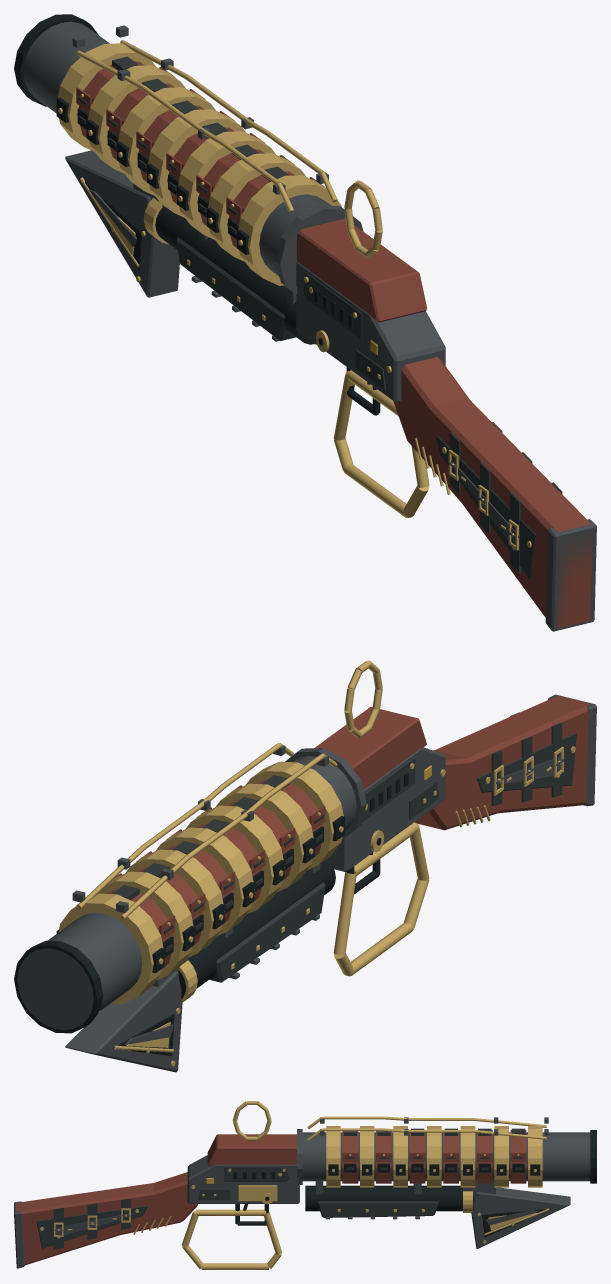
Rendered from slug_4.glb.
3 views of the same model, one above another, from view 1: azimuth 30°, elevation 25°; view 2: azimuth 150°, elevation 25°; view 3: azimuth 270°, elevation 25° (orthographic). The views are drawn at different scales.
Parts seen in each view (by area): view 1: Weapon_slug_v1; view 2: Weapon_slug_v1; view 3: Weapon_slug_v1.
Part boxes in pixels (x1,y1,x2,y2): Weapon_slug_v1: (14, 14, 596, 631); Weapon_slug_v1: (14, 660, 596, 1072); Weapon_slug_v1: (14, 1101, 596, 1269).
Size of the model in its own units: 0.118 by 0.332 by 1.04.
